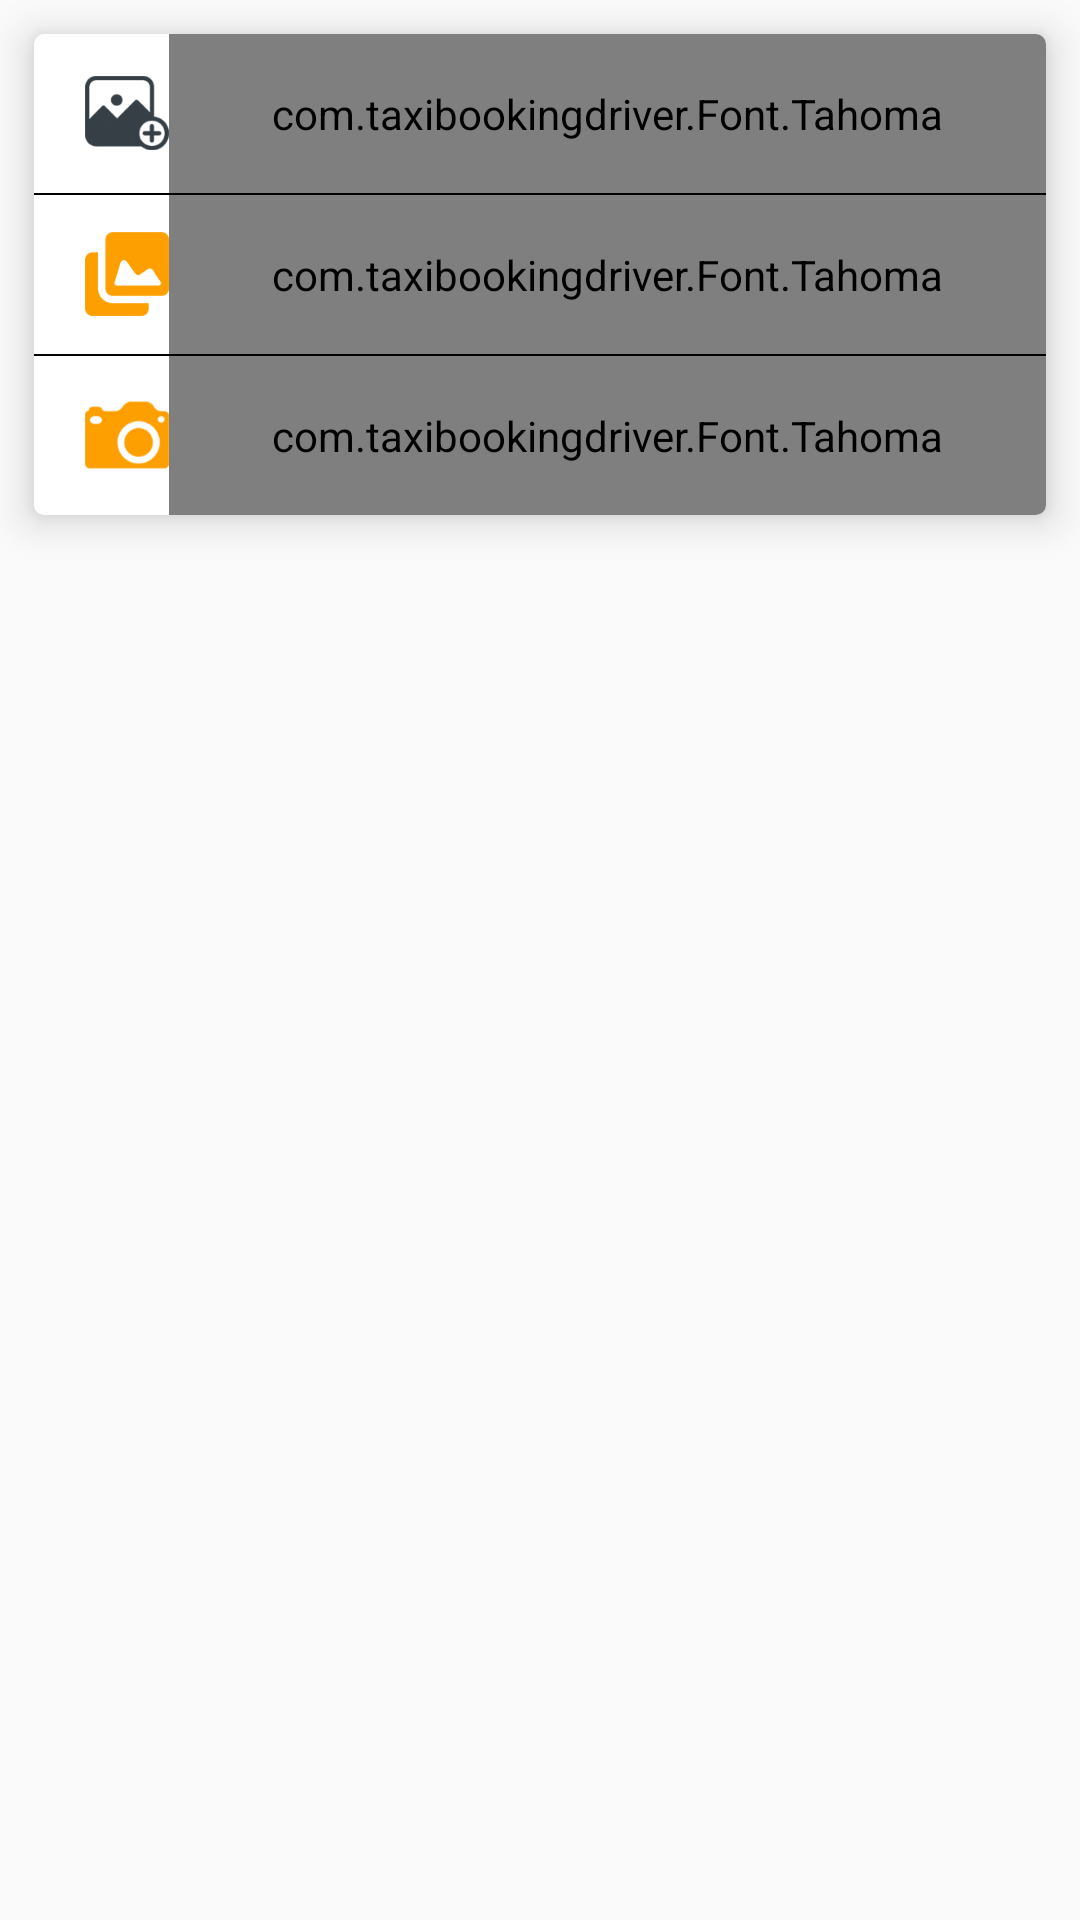

Icons on this 1080px x 1920px Android screen, each with the point to tap as (x,y):
add: (127,113)
camera: (127,435)
gallery: (127,274)
